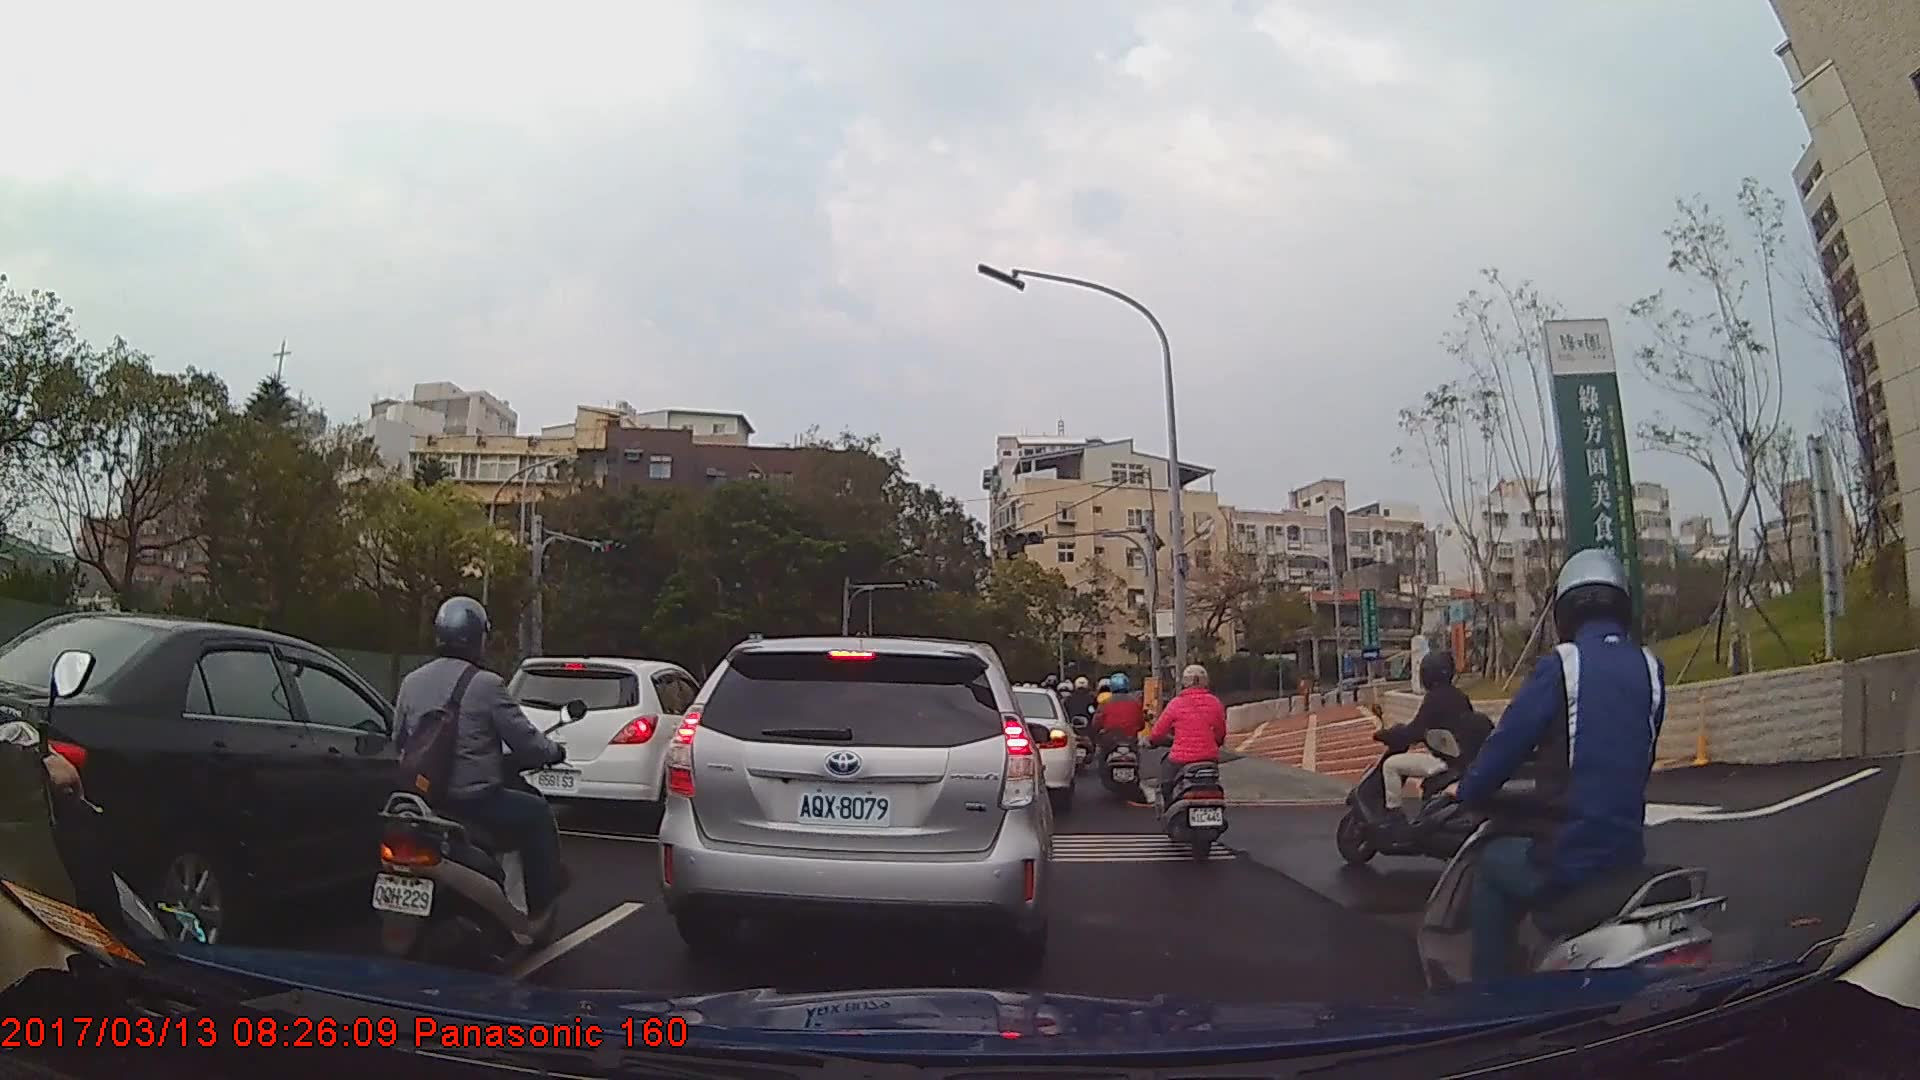rider: (1413, 548, 1743, 1063), (369, 594, 571, 985), (1336, 654, 1525, 871), (1155, 660, 1227, 862), (1092, 669, 1151, 808), (1068, 674, 1105, 774)
vehicle: (0, 609, 480, 954), (656, 635, 1051, 973), (481, 656, 720, 832), (963, 686, 1077, 808)
